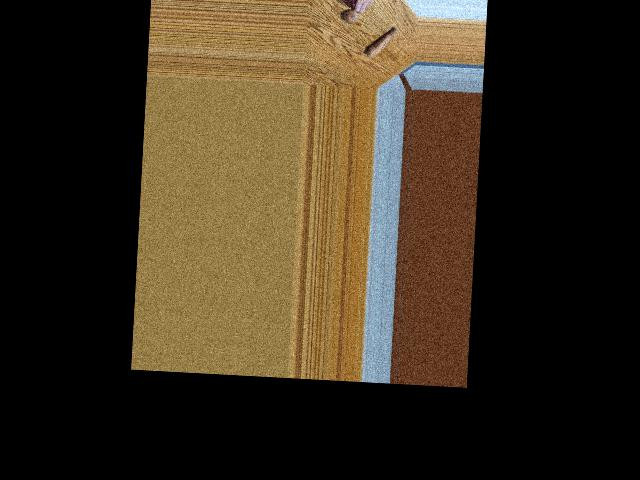onion: (341, 7, 358, 23)
